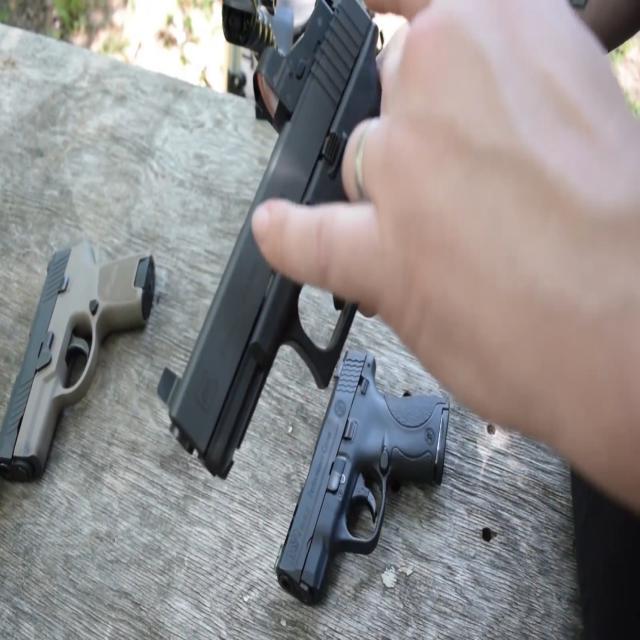handgun: (154, 19, 474, 481), (256, 346, 450, 624), (0, 207, 165, 515)
